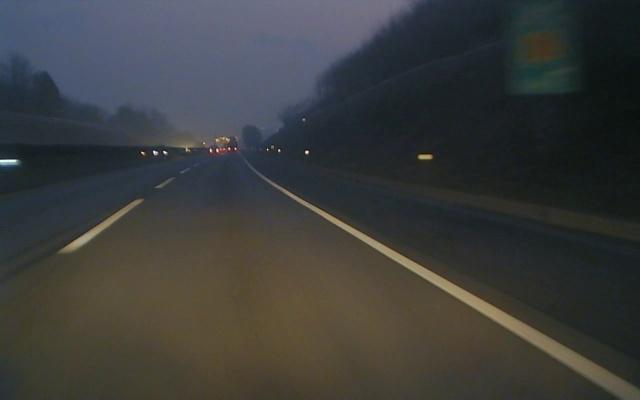lane: (269, 181, 640, 400), (59, 177, 175, 253)
